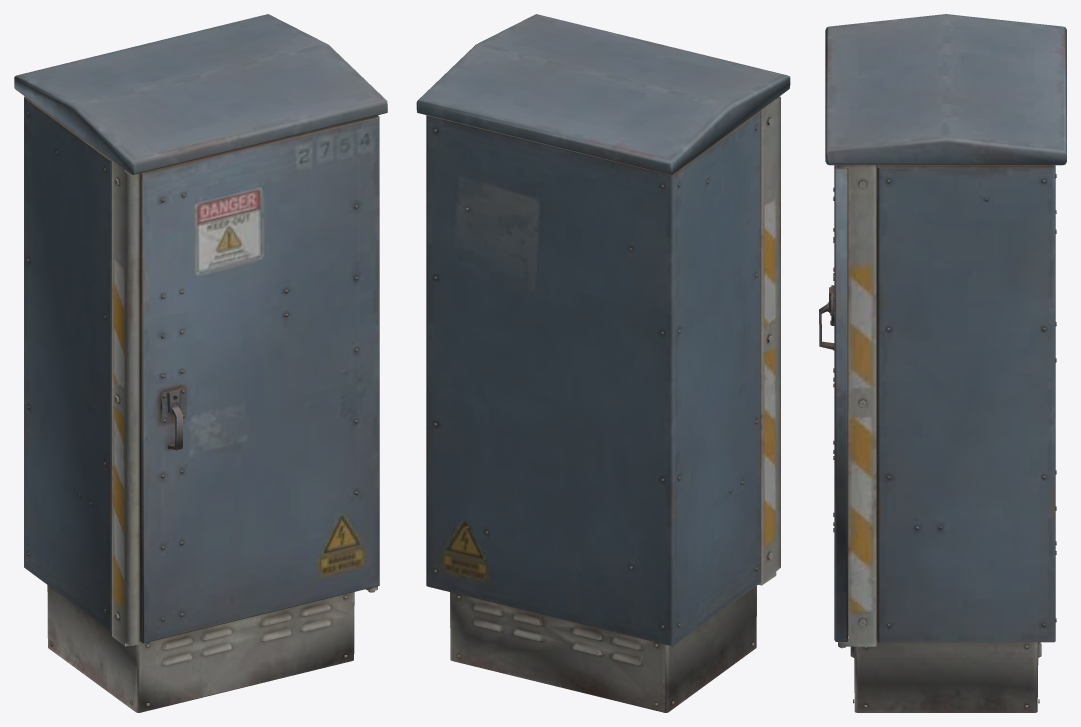
Rendered from utility_box_01.glb.
3 renders of one model, left to right at view 1: azimuth 30°, elevation 25°; view 2: azimuth 150°, elevation 25°; view 3: azimuth 270°, elevation 25°, orthographic.
Parts seen in each view (by area): view 1: box; view 2: box; view 3: box.
Boxes of the visible parts, <box> form: box: <box>14,14,387,712</box>; box: <box>416,14,790,712</box>; box: <box>819,14,1066,712</box>.
Bounding box in the file's own units: 0.52 × 1.12 × 0.4311.
1 material, 1 textured.
